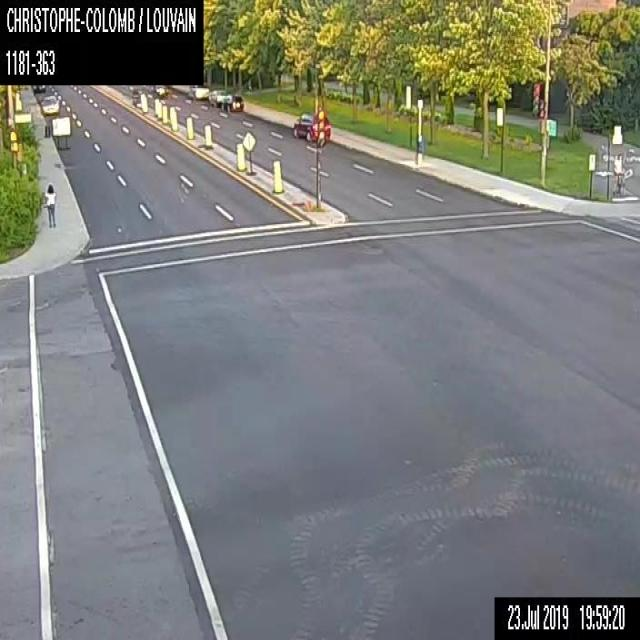construction: (49, 115, 71, 148), (242, 130, 256, 173), (271, 157, 283, 192), (234, 141, 246, 169), (202, 122, 212, 148), (139, 91, 148, 112), (170, 109, 177, 132), (185, 115, 192, 138), (168, 105, 174, 129), (161, 104, 167, 125), (156, 102, 162, 120), (154, 97, 158, 116)
cyclist: (612, 152, 625, 197)
pedestrian: (43, 181, 56, 228)
vehicle: (292, 112, 329, 140), (38, 93, 60, 116), (220, 94, 243, 111), (187, 84, 209, 100), (207, 88, 225, 107), (151, 83, 168, 97), (31, 83, 45, 92)
